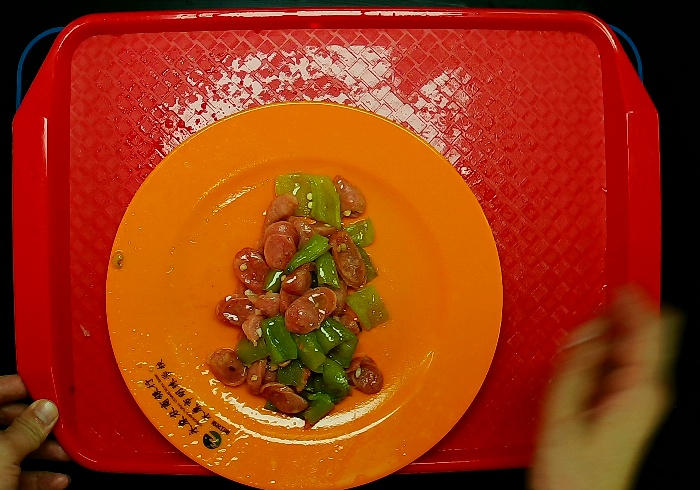YKMZ-Ju_Se_Mian_Pan: (103, 99, 506, 490)
